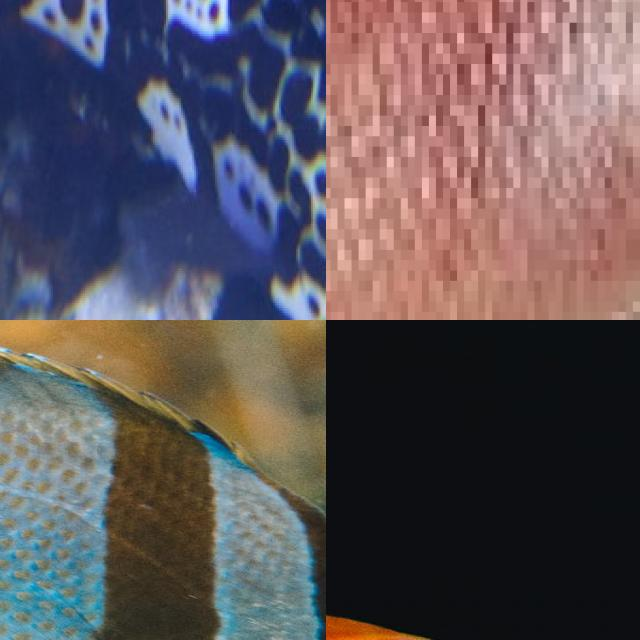fish: (0, 0, 326, 320), (0, 320, 326, 638), (326, 0, 640, 320), (326, 320, 640, 640)
